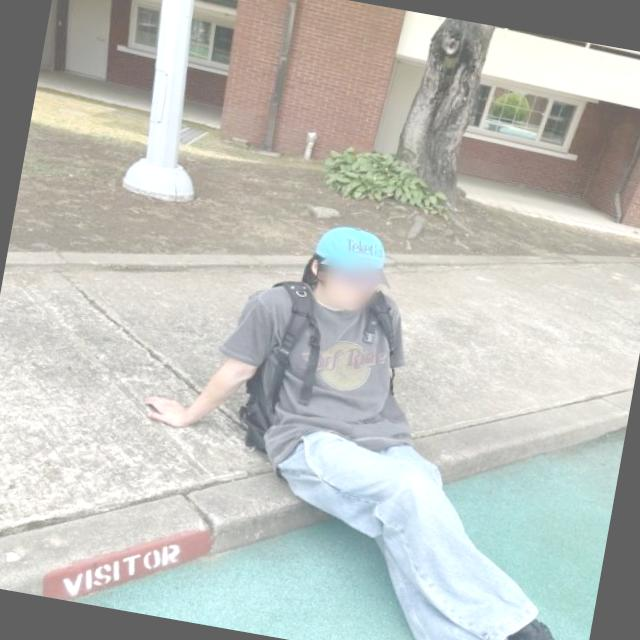denimpants: (246, 411, 577, 640)
shortsleeve: (207, 262, 449, 489)
